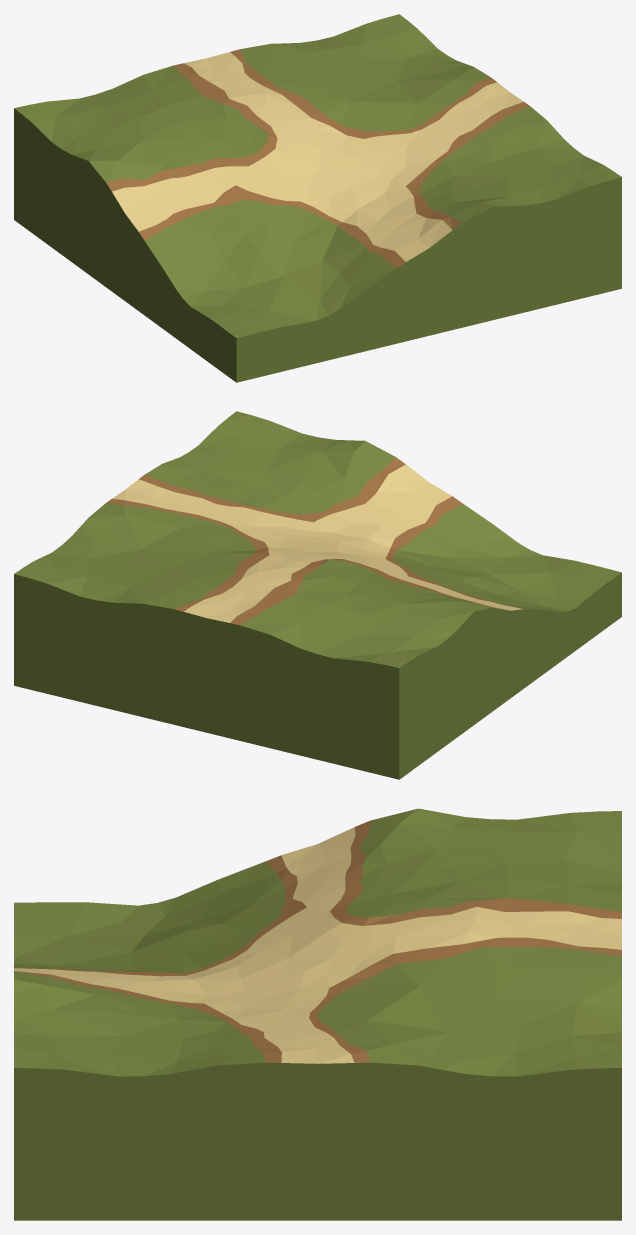
File: Terrian_Road_Int_HillDip-01.fbx
3 renders of one model, top to bottom at view 1: azimuth 30°, elevation 25°; view 2: azimuth 150°, elevation 25°; view 3: azimuth 270°, elevation 25°, orthographic. The views are drawn at different scales.
Visible parts, largest first — view 1: Terrian_Road_Int_HillDip-01; view 2: Terrian_Road_Int_HillDip-01; view 3: Terrian_Road_Int_HillDip-01.
Part boxes in pixels (x1,y1,x2,y2): Terrian_Road_Int_HillDip-01: (14,14,621,382); Terrian_Road_Int_HillDip-01: (14,411,621,779); Terrian_Road_Int_HillDip-01: (14,808,621,1220).
Size of the model in its own units: 3600 by 1076 by 3600.
1 material, 1 textured.
